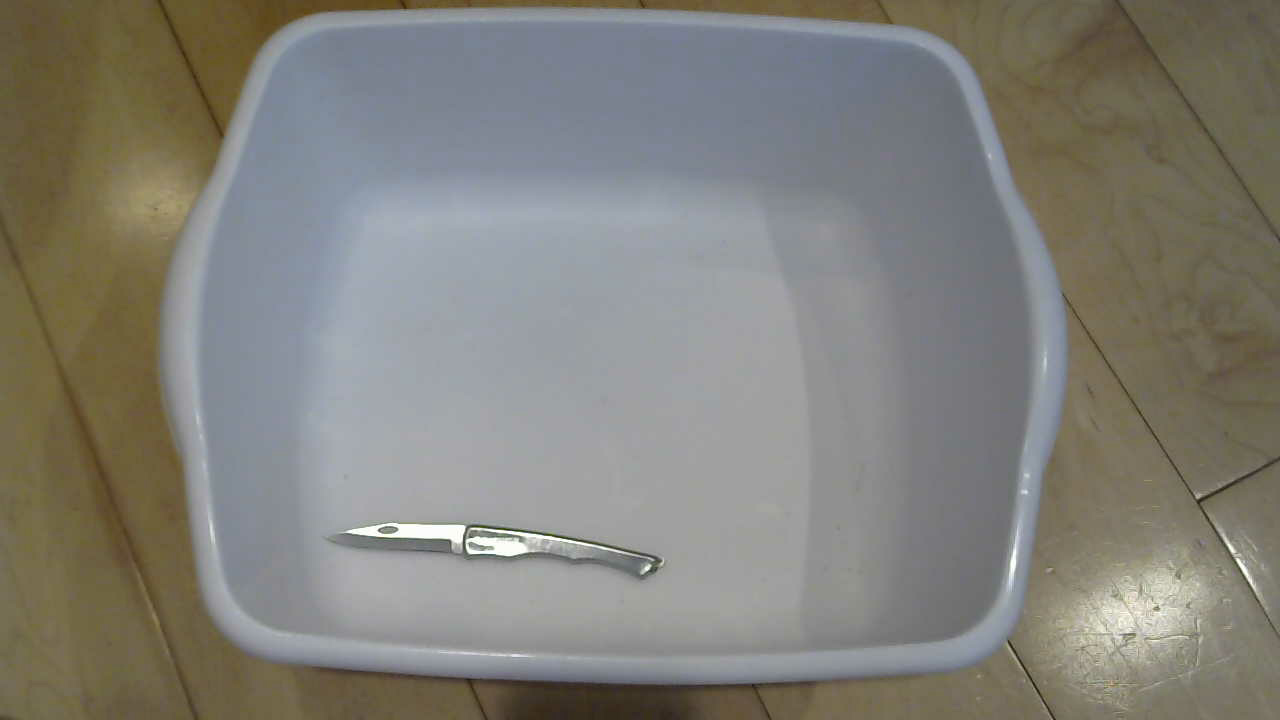knife: (316, 521, 691, 626)
